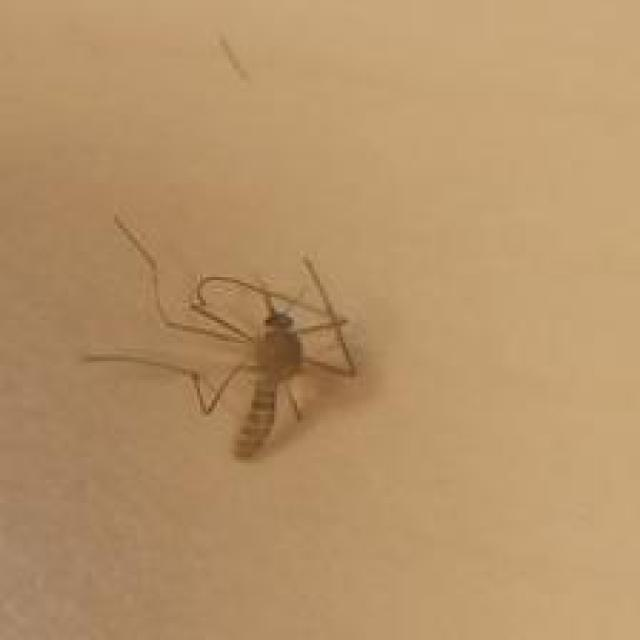Culex: (83, 211, 360, 460)
